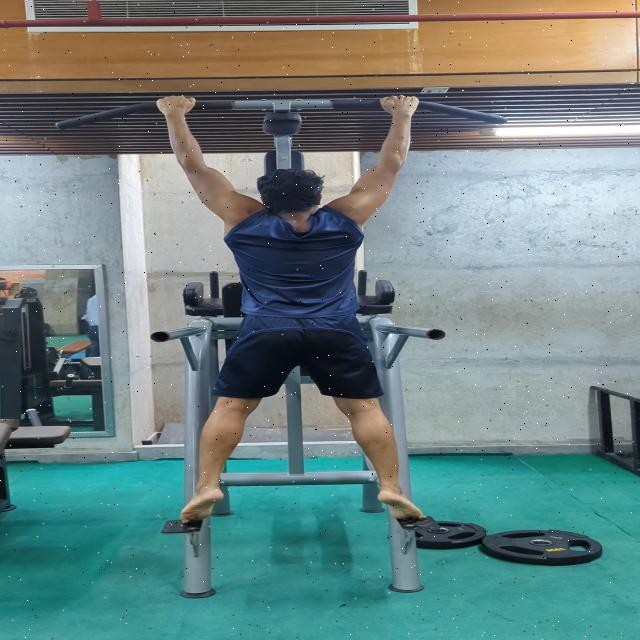Normal_PullUps: (136, 89, 462, 526)
